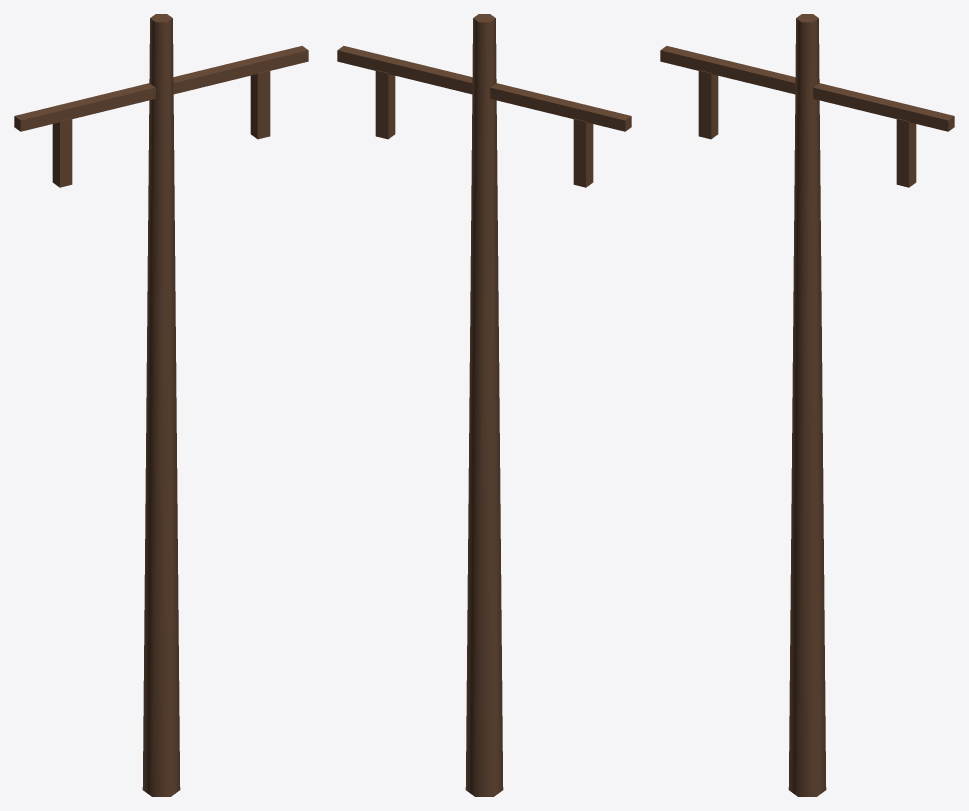
The model's file is powerline_low.glb.
3 views of the same model, side by side, from view 1: azimuth 30°, elevation 25°; view 2: azimuth 150°, elevation 25°; view 3: azimuth 330°, elevation 25° (orthographic).
Bounding box in the file's own units: 3.2 × 8.2 × 0.36.
